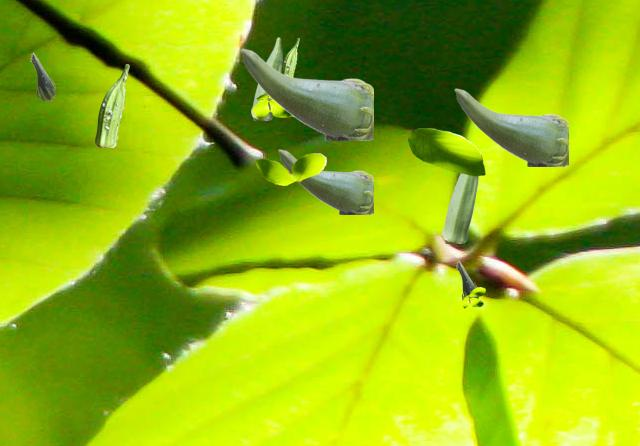okra: (240, 48, 372, 139), (454, 88, 567, 165), (278, 149, 372, 213), (95, 64, 128, 146), (251, 37, 281, 119), (442, 174, 477, 242), (30, 52, 54, 99), (456, 260, 477, 298), (281, 38, 298, 76)
